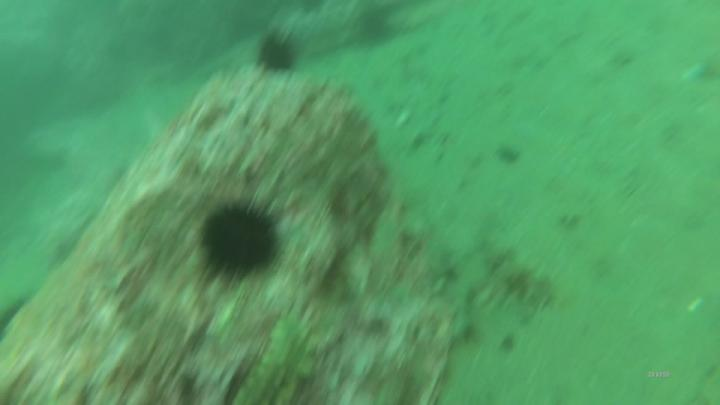echinus: (193, 189, 294, 290), (255, 25, 301, 76)
holothurian: (235, 314, 319, 405)
